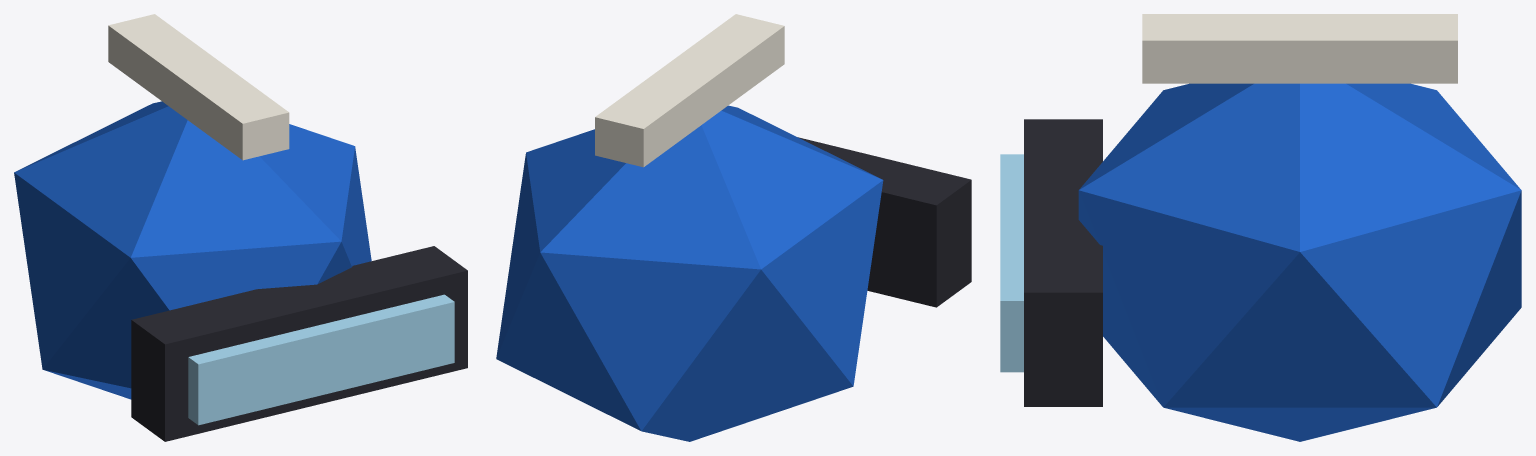
File: ski_helmet.glb
The picture shows the model from 3 angles, left to right: view 1: azimuth 30°, elevation 25°; view 2: azimuth 150°, elevation 25°; view 3: azimuth 270°, elevation 25°; orthographic projection. The views are drawn at different scales.
Parts seen in each view (by area): view 1: ski_helmet; view 2: ski_helmet; view 3: ski_helmet.
Boxes of the visible parts, <box> form: ski_helmet: <box>14,14,467,441</box>; ski_helmet: <box>496,14,971,441</box>; ski_helmet: <box>1000,14,1521,441</box>.
Size of the model in its own units: 0.2683 by 0.29 by 0.3304.
